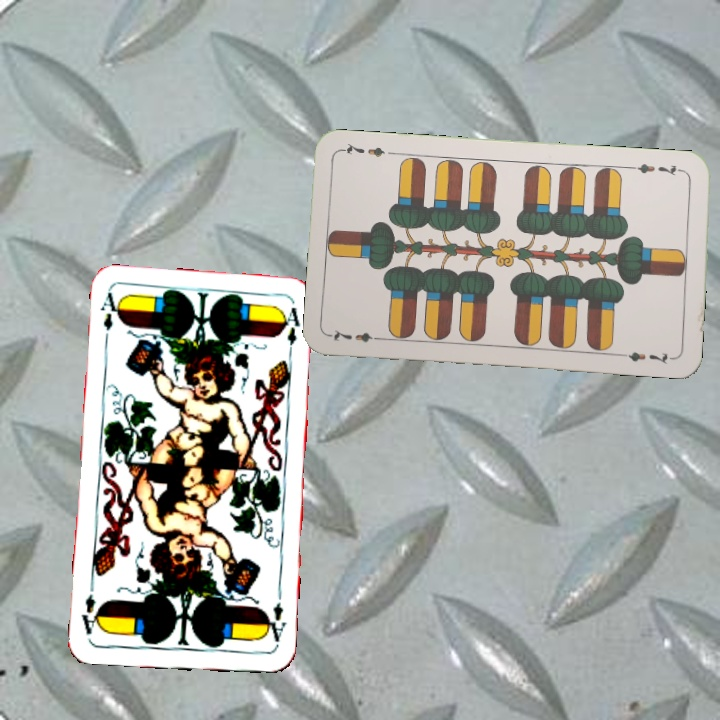E7: (327, 325, 386, 345), (628, 160, 687, 179)
EA: (96, 289, 123, 348), (261, 598, 289, 649)
